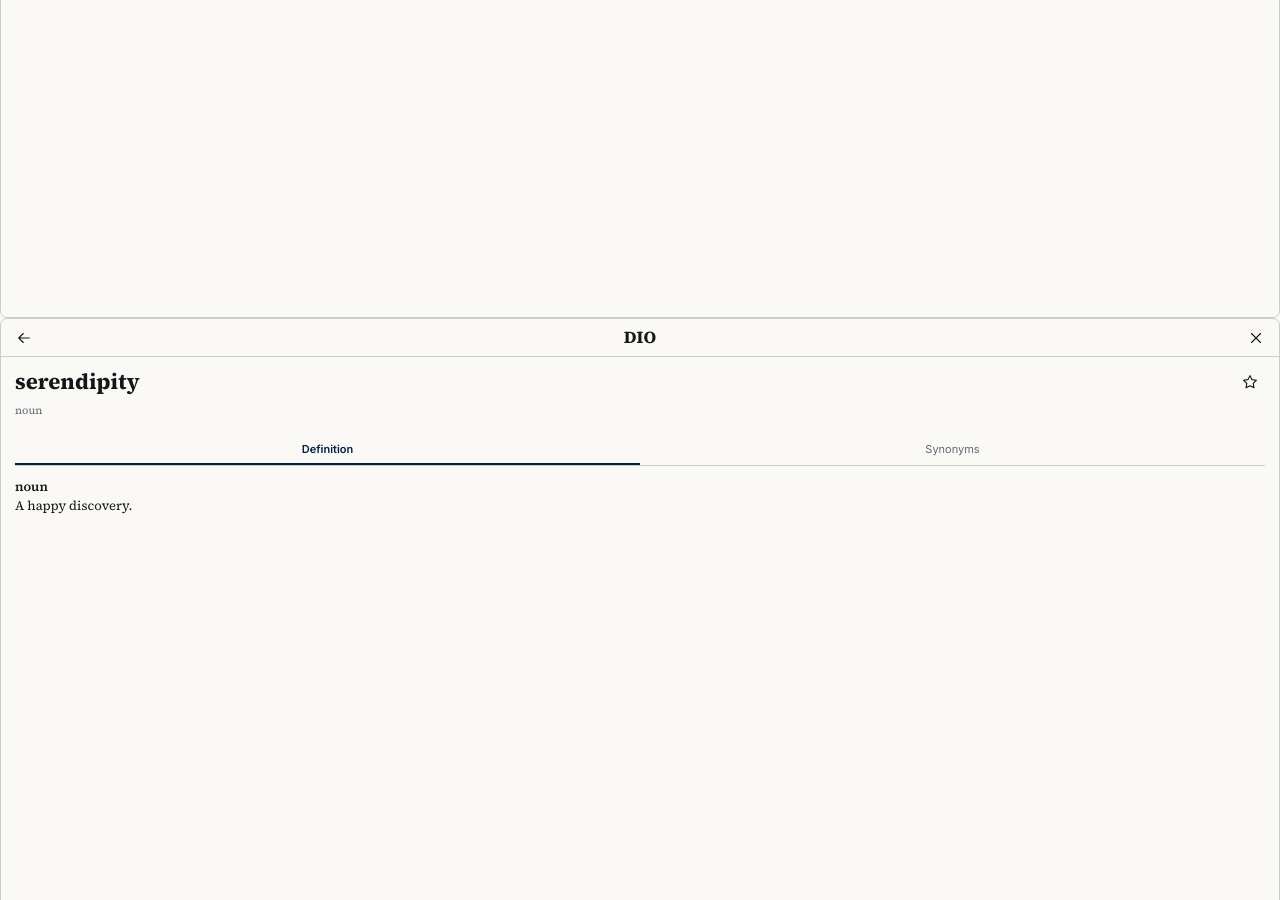
Test: popup › keeps the section tabs when expanded and shows each section in full
The image size is (1280, 900).
(page scrolled)
Expected: the text "A happy discovery." is shown, [15, 497, 132, 514]
Step 1. Click the tab "Synonyms" → (952, 450), box [640, 436, 1265, 465]
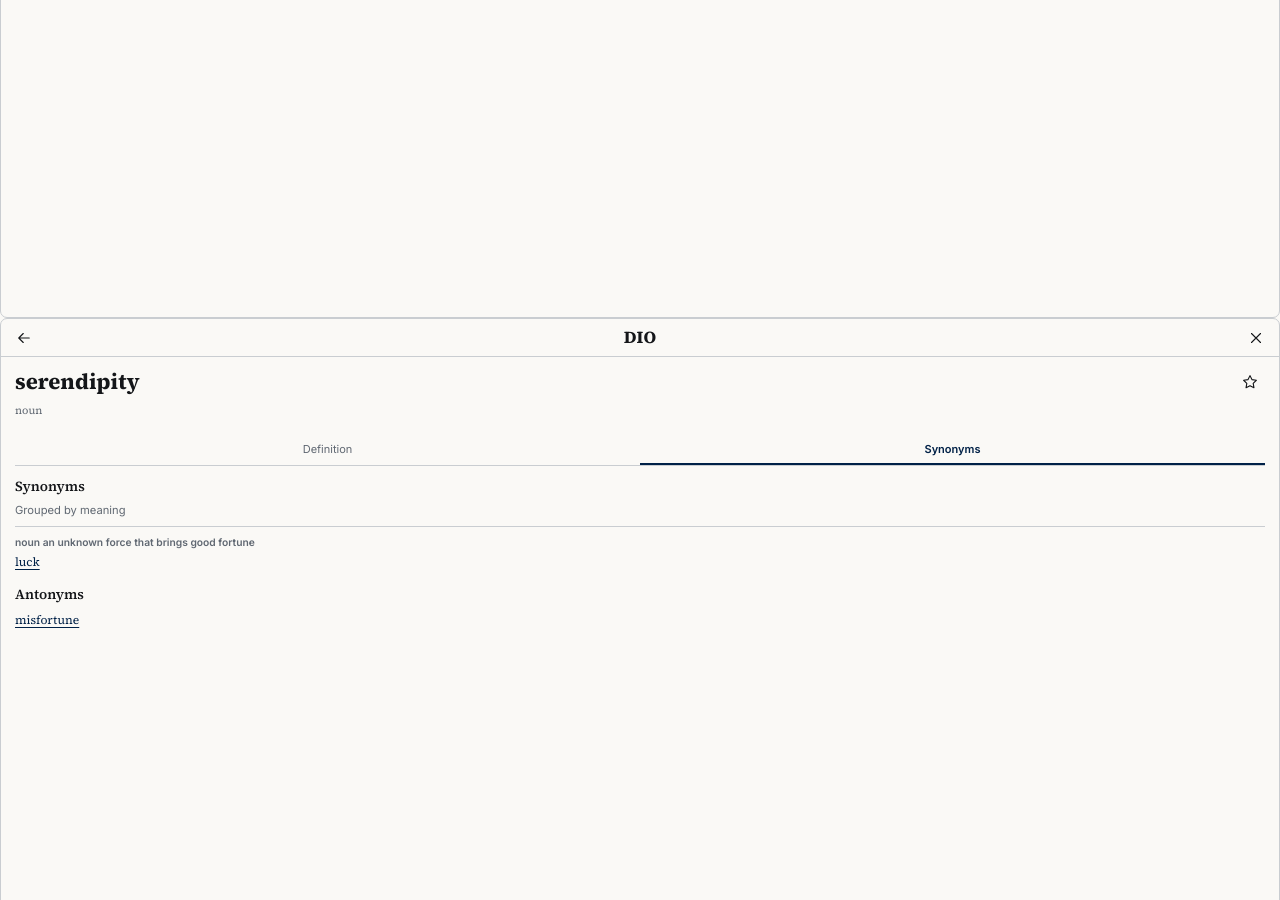
Expected: the button "luck" is shown, [15, 554, 40, 571]
Expected: the button "misfortune" is shown, [15, 611, 79, 628]
